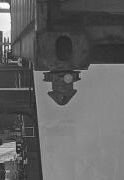Copy of Copy of Copy of Copy of Copy of twist_lock_2: (37, 63, 87, 111)
